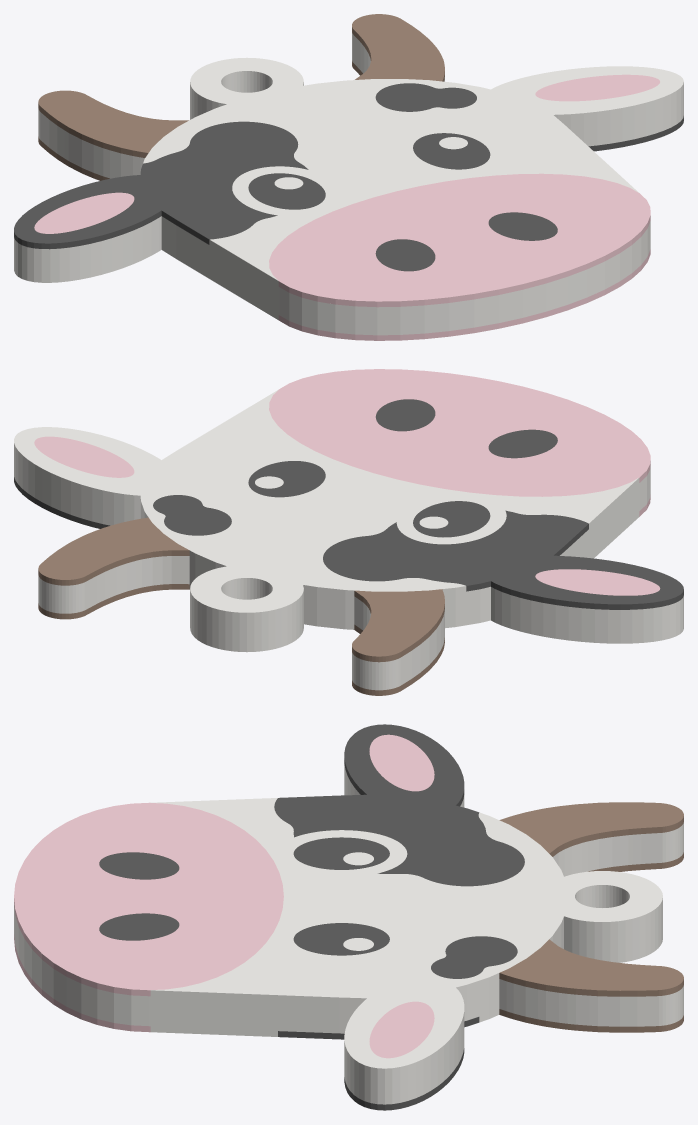
The model's file is CRW-001-cowaramup-keyring-classic-large.glb.
3 renders of one model, top to bottom at view 1: azimuth 30°, elevation 25°; view 2: azimuth 150°, elevation 25°; view 3: azimuth 270°, elevation 25°, orthographic. The views are drawn at different scales.
Visible parts, largest first — view 1: T1 tool_1 [PLA Cow White] - core body, eye highlights, eye r, T3 tool_3 [PLA Cow Pink] - muzzle, inner ears, T2 tool_2 [PLA Cow Black] - eyes, nostrils, forehead spot, s, T4 tool_4 [TPU Earth Brown] - horns; view 2: T1 tool_1 [PLA Cow White] - core body, eye highlights, eye r, T3 tool_3 [PLA Cow Pink] - muzzle, inner ears, T2 tool_2 [PLA Cow Black] - eyes, nostrils, forehead spot, s, T4 tool_4 [TPU Earth Brown] - horns; view 3: T1 tool_1 [PLA Cow White] - core body, eye highlights, eye r, T3 tool_3 [PLA Cow Pink] - muzzle, inner ears, T2 tool_2 [PLA Cow Black] - eyes, nostrils, forehead spot, s, T4 tool_4 [TPU Earth Brown] - horns.
Part boxes in pixels (x1,y1,x2,y2): T1 tool_1 [PLA Cow White] - core body, eye highlights, eye r: (14,33,683,335); T3 tool_3 [PLA Cow Pink] - muzzle, inner ears: (34,74,659,340); T2 tool_2 [PLA Cow Black] - eyes, nostrils, forehead spot, s: (14,83,683,271); T4 tool_4 [TPU Earth Brown] - horns: (38,14,444,180); T1 tool_1 [PLA Cow White] - core body, eye highlights, eye r: (14,390,683,690); T3 tool_3 [PLA Cow Pink] - muzzle, inner ears: (34,369,660,595); T2 tool_2 [PLA Cow Black] - eyes, nostrils, forehead spot, s: (14,399,683,609); T4 tool_4 [TPU Earth Brown] - horns: (38,517,444,695); T1 tool_1 [PLA Cow White] - core body, eye highlights, eye r: (14,764,683,1104); T3 tool_3 [PLA Cow Pink] - muzzle, inner ears: (14,734,434,1058); T2 tool_2 [PLA Cow Black] - eyes, nostrils, forehead spot, s: (99,724,524,1110); T4 tool_4 [TPU Earth Brown] - horns: (499,802,683,1032).
Bounding box in the file's own units: 0.0739 × 0.0042 × 0.0608.
